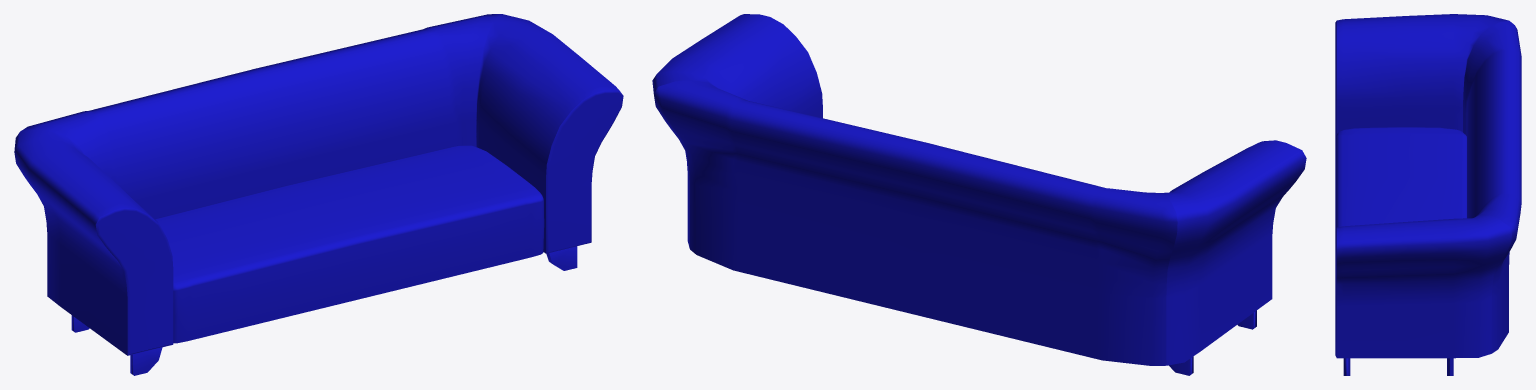
Rendered from Sofa.obj.
3 views of the same model, side by side, from view 1: azimuth 30°, elevation 25°; view 2: azimuth 150°, elevation 25°; view 3: azimuth 270°, elevation 25° (orthographic). The views are drawn at different scales.
Visible parts, largest first — view 1: sofa_01.001; view 2: sofa_01.001; view 3: sofa_01.001.
Boxes of the visible parts, left/top/right/bottom form: sofa_01.001: left=14, top=14, right=623, bottom=375; sofa_01.001: left=652, top=14, right=1306, bottom=375; sofa_01.001: left=1335, top=14, right=1521, bottom=375.
Bounding box in the file's own units: 8.1 × 2.69 × 2.83.
